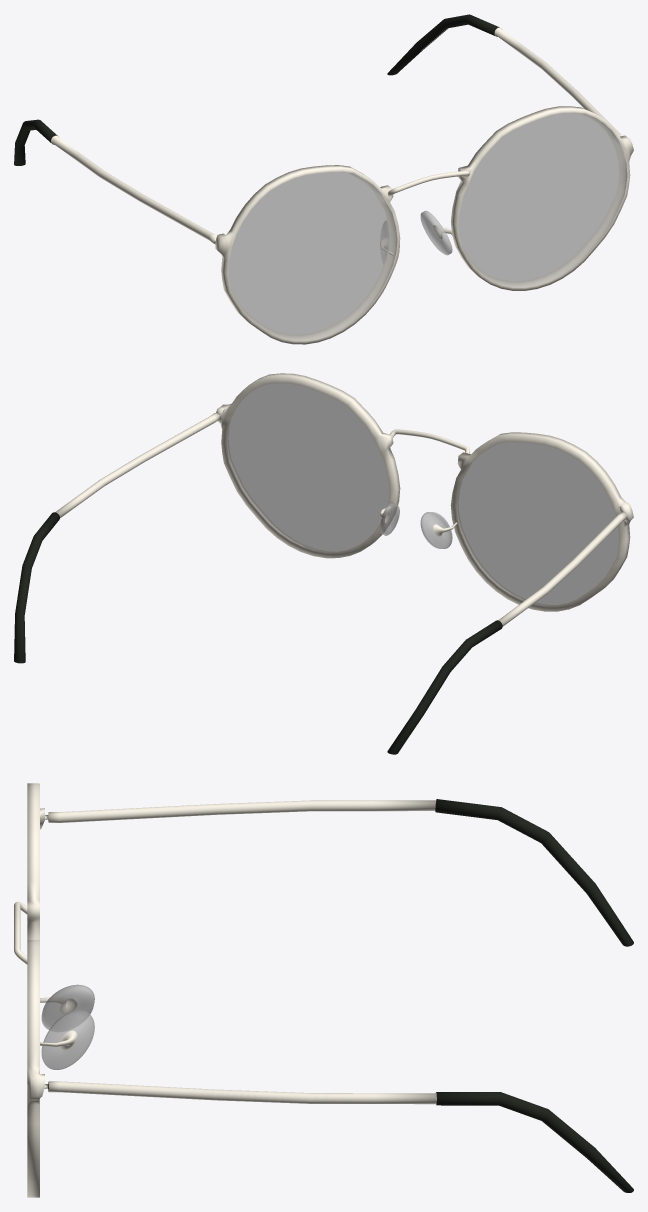
Rendered from glasses.glb.
3 renders of one model, top to bottom at view 1: azimuth 30°, elevation 25°; view 2: azimuth 150°, elevation 25°; view 3: azimuth 270°, elevation 25°, orthographic. The views are drawn at different scales.
Visible parts, largest first — view 1: Cylinder1_sep6 (×2), Cylinder1_sep15 (×2), Cylinder9 (×2), Cylinder9_sep17 (×2), sphere7, Cylinder7; view 2: Cylinder1_sep6 (×2), Cylinder1_sep15 (×2), Cylinder9 (×2), Cylinder9_sep17 (×2), sphere7_sep10; view 3: Cylinder9_sep17 (×2), Cylinder9 (×2), Cylinder1_sep6, Cylinder1_sep15, sphere7, sphere7_sep10.
Boxes of the visible parts, x1,y1,x2,y2 form: Cylinder1_sep6 (×2): [450, 106, 633, 290]; Cylinder1_sep15 (×2): [215, 165, 400, 344]; Cylinder9 (×2): [387, 14, 622, 136]; Cylinder9_sep17 (×2): [14, 119, 216, 243]; sphere7: [420, 210, 452, 255]; Cylinder7: [388, 170, 469, 196]; Cylinder1_sep6 (×2): [216, 373, 400, 558]; Cylinder1_sep15 (×2): [450, 432, 633, 611]; Cylinder9 (×2): [14, 413, 220, 663]; Cylinder9_sep17 (×2): [387, 512, 626, 754]; sphere7_sep10: [420, 512, 452, 548]; Cylinder9_sep17 (×2): [45, 799, 633, 946]; Cylinder9 (×2): [44, 1081, 633, 1192]; Cylinder1_sep6: [27, 940, 44, 1197]; Cylinder1_sep15: [27, 783, 44, 940]; sphere7: [41, 1010, 94, 1069]; sphere7_sep10: [41, 984, 94, 1031].
Size of the model in its own units: 2 by 0.7346 by 1.75.
Materials: 15 (15 with a texture image).
